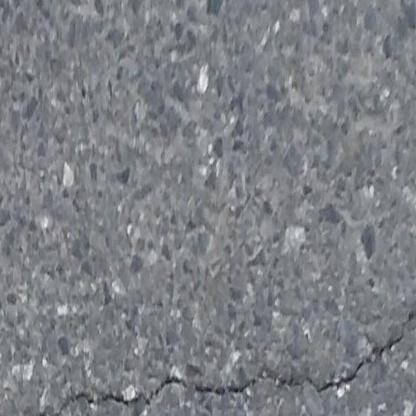Cracks: (11, 297, 416, 416)
